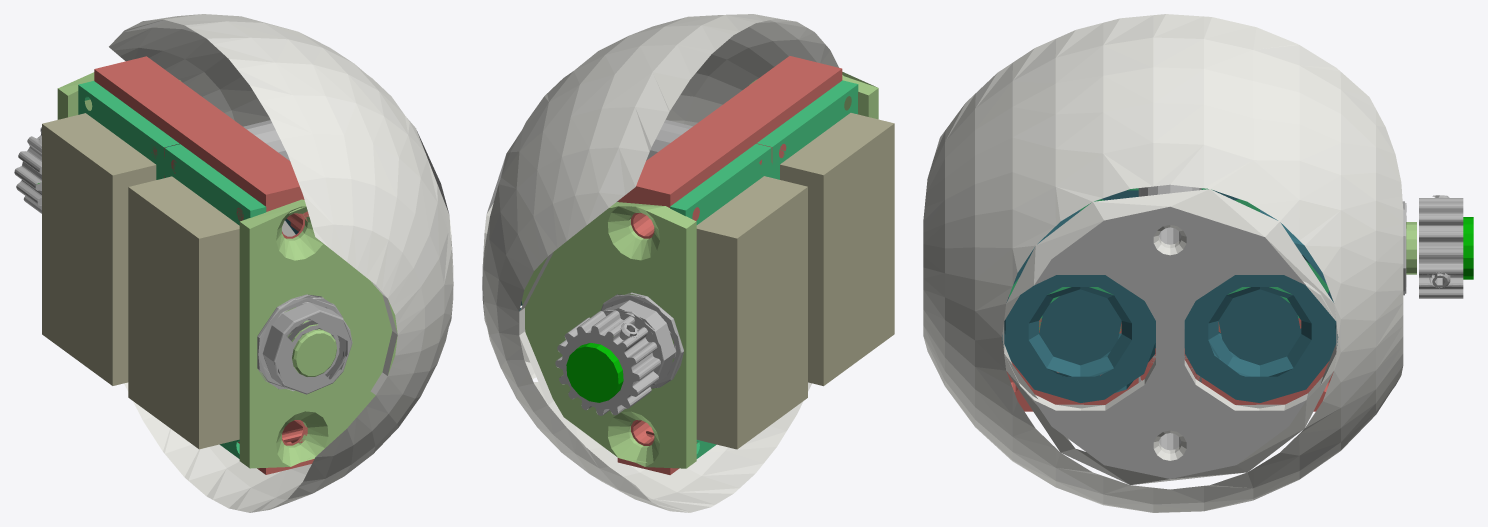
Rendered from EyeL_2_joint_visu.dae.
The picture shows the model from 3 angles, left to right: view 1: azimuth 30°, elevation 25°; view 2: azimuth 150°, elevation 25°; view 3: azimuth 270°, elevation 25°; orthographic projection. The views are drawn at different scales.
Visible parts, largest first — view 1: Visualization_EyeL2; view 2: Visualization_EyeL2; view 3: Visualization_EyeL2.
Boxes of the visible parts, x1,y1,x2,y2 form: Visualization_EyeL2: (14,14,453,512); Visualization_EyeL2: (482,14,894,512); Visualization_EyeL2: (923,14,1473,512).
Size of the model in its own units: 0.0301 by 0.0524 by 0.05.
